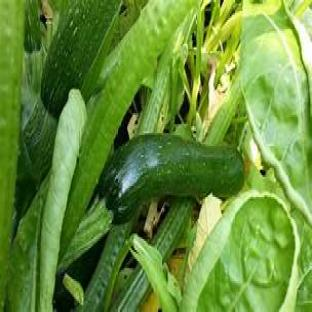Zucchini: (100, 136, 244, 222), (77, 221, 132, 311), (151, 199, 195, 260)
